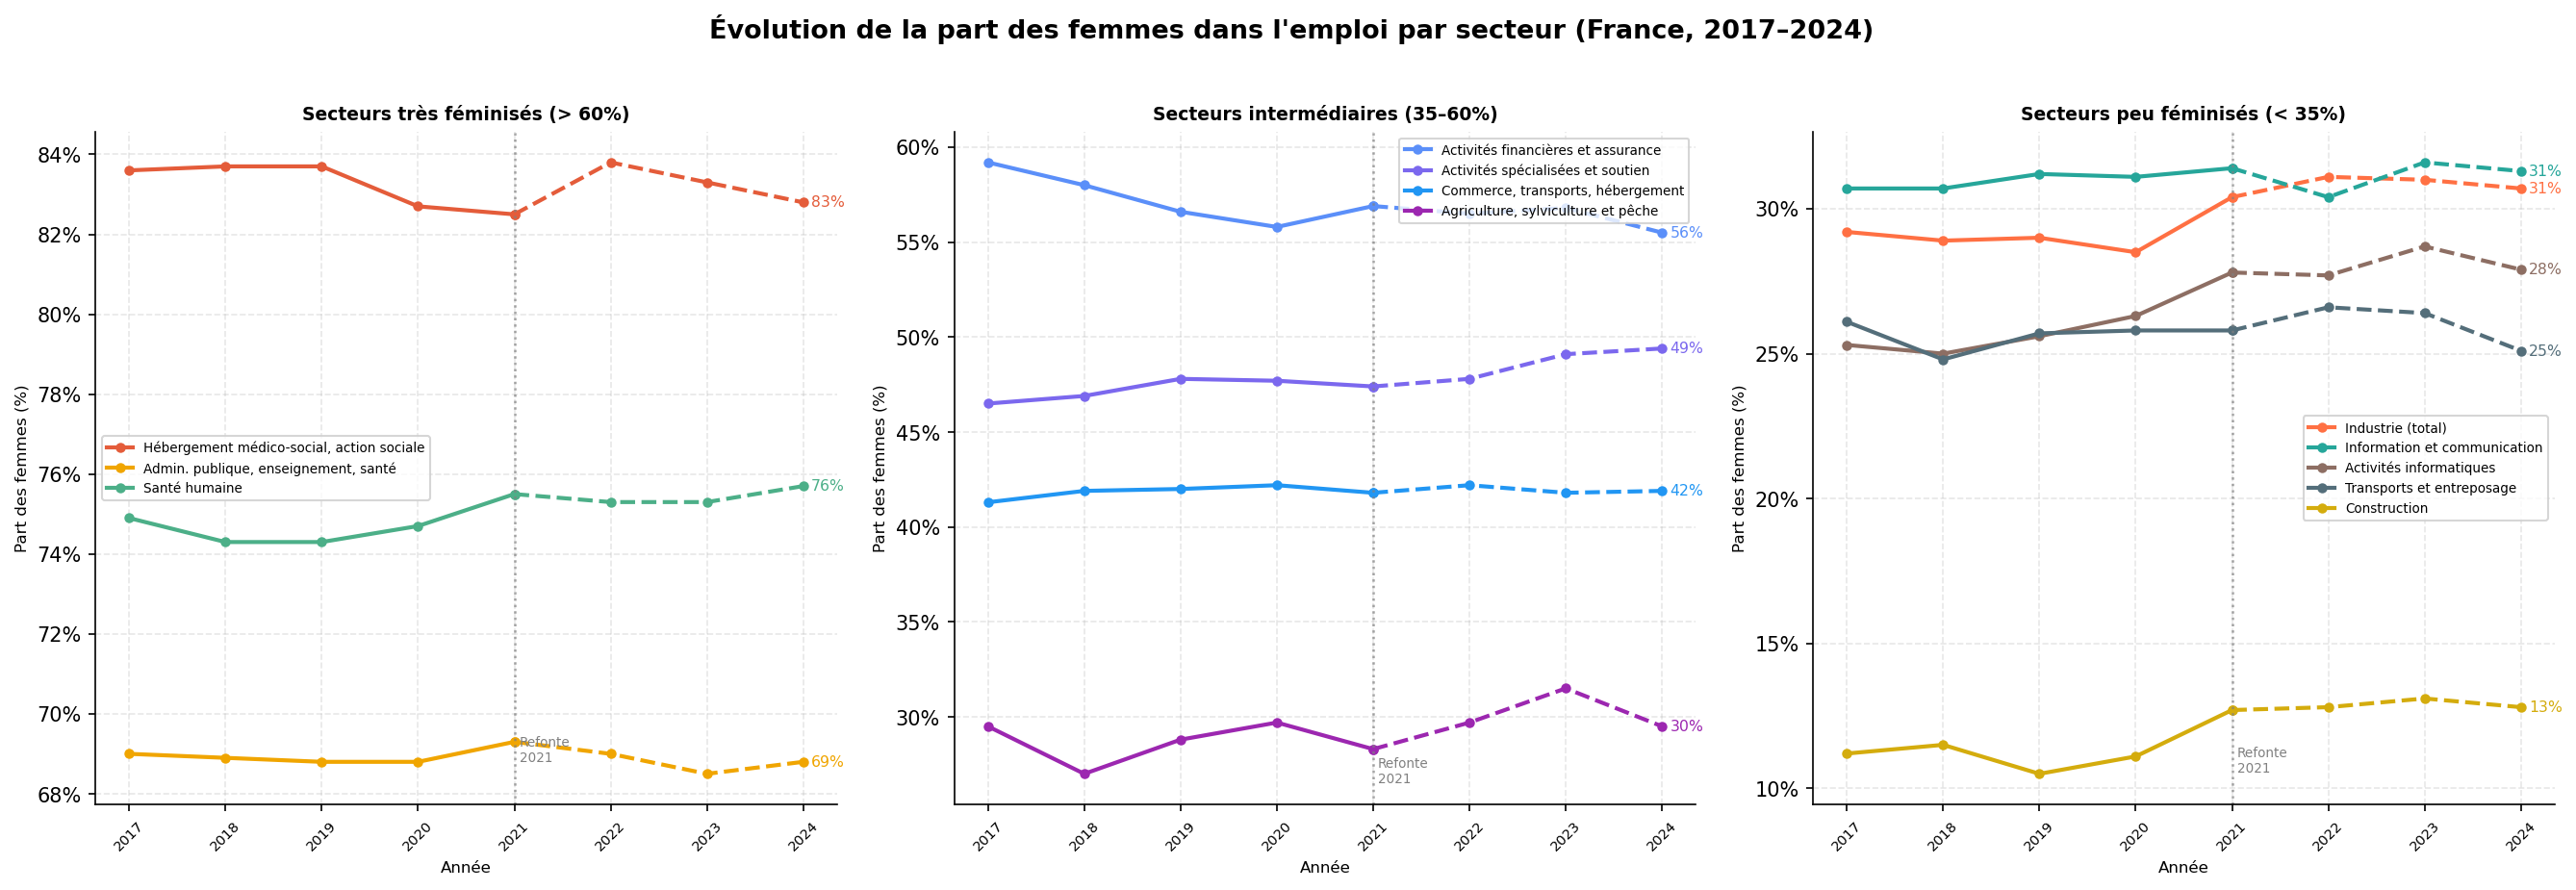

What the dashboard file says about the page in this screenshot:
{"tool":"tableau","page":{"name":"Dashboard","canvas":[1400,900],"ordinal":0},"visuals":[{"type":"blank","box":[0,0,350,5]},{"type":"blank","box":[350,0,350,5]},{"type":"blank","box":[700,0,350,5]},{"type":"blank","box":[1050,0,350,5]},{"type":"text","box":[840,3,420,126]},{"type":"blank","box":[0,4,1400,126]},{"type":"text","box":[65,4,570,126]},{"type":"blank","box":[700,17,1,100]},{"type":"blank","box":[0,130,1400,36]},{"type":"text","box":[0,130,1400,36]},{"type":"blank","box":[0,166,1400,80]},{"type":"text","box":[256,166,250,80]},{"type":"text","box":[544,166,140,81]},{"type":"text","box":[722,166,140,80]},{"type":"blank","box":[900,166,2,80]},{"type":"text","box":[38,167,180,80]},{"type":"blank","box":[38,176,3,60]},{"type":"blank","box":[256,176,3,60]},{"type":"blank","box":[544,176,3,60]},{"type":"blank","box":[722,176,3,60]},{"type":"text","box":[1089,176,120,20]},{"type":"filter","title":"01 - Évolution","param":"[federated.1gqlfck05qt47b11bux781xqgqww].[none:famille:nk]","box":[940,202,190,30]},{"type":"filter","title":"01 - Évolution","param":"[federated.1gqlfck05qt47b11bux781xqgqww].[none:secteur:nk]","box":[1170,202,190,30]},{"type":"blank","box":[0,246,900,22]},{"type":"blank","box":[0,246,6,22]},{"type":"text","box":[14,246,886,22]},{"type":"blank","box":[900,246,500,544]},{"type":"blank","box":[900,246,500,4]},{"type":"worksheet","title":"01 - Évolution","mark":"Line","rows":["part_femmes"],"cols":["annee"],"box":[0,268,900,250]},{"type":"text","box":[1043,269,200,30]},{"type":"blank","box":[955,314,380,1]},{"type":"text","box":[1050,364,200,25]},{"type":"text","box":[947,389,400,80]},{"type":"text","box":[1050,489,200,25]},{"type":"text","box":[955,514,400,80]},{"type":"blank","box":[0,518,900,22]},{"type":"blank","box":[0,518,6,22]},{"type":"text","box":[14,518,886,22]},{"type":"legend","title":"02 - Variation","param":"[federated.1gqlfck05qt47b11bux781xqgqww].[none:Calculation_2293565508513793:nk]","box":[530,518,370,22]},{"type":"worksheet","title":"02 - Variation","mark":"Bar","rows":["secteur","Calculation_2293565508513793"],"cols":["Calculation_2293565508431872"],"box":[0,540,900,250]},{"type":"text","box":[1000,614,300,25]},{"type":"text","box":[967,639,400,140]},{"type":"blank","box":[0,790,1400,30]},{"type":"text","box":[30,790,1370,30]},{"type":"blank","box":[0,820,1400,84]},{"type":"text","box":[20,820,1380,84]}]}

Visuals, with their boxes on the page's 1400x900 design canvas (x1, y1, x2, y2). These are canvas units, not pixel positions in the 2576x890 screenshot, which may show the page scaled, cropped or inside an application window:
blank: <region>0, 0, 350, 5</region>
blank: <region>350, 0, 700, 5</region>
blank: <region>700, 0, 1050, 5</region>
blank: <region>1050, 0, 1400, 5</region>
text: <region>840, 3, 1260, 129</region>
blank: <region>0, 4, 1400, 130</region>
text: <region>65, 4, 635, 130</region>
blank: <region>700, 17, 701, 117</region>
blank: <region>0, 130, 1400, 166</region>
text: <region>0, 130, 1400, 166</region>
blank: <region>0, 166, 1400, 246</region>
text: <region>256, 166, 506, 246</region>
text: <region>544, 166, 684, 247</region>
text: <region>722, 166, 862, 246</region>
blank: <region>900, 166, 902, 246</region>
text: <region>38, 167, 218, 247</region>
blank: <region>38, 176, 41, 236</region>
blank: <region>256, 176, 259, 236</region>
blank: <region>544, 176, 547, 236</region>
blank: <region>722, 176, 725, 236</region>
text: <region>1089, 176, 1209, 196</region>
"01 - Évolution" filter: <region>940, 202, 1130, 232</region>
"01 - Évolution" filter: <region>1170, 202, 1360, 232</region>
blank: <region>0, 246, 900, 268</region>
blank: <region>0, 246, 6, 268</region>
text: <region>14, 246, 900, 268</region>
blank: <region>900, 246, 1400, 790</region>
blank: <region>900, 246, 1400, 250</region>
"01 - Évolution" worksheet (Line marks): <region>0, 268, 900, 518</region>
text: <region>1043, 269, 1243, 299</region>
blank: <region>955, 314, 1335, 315</region>
text: <region>1050, 364, 1250, 389</region>
text: <region>947, 389, 1347, 469</region>
text: <region>1050, 489, 1250, 514</region>
text: <region>955, 514, 1355, 594</region>
blank: <region>0, 518, 900, 540</region>
blank: <region>0, 518, 6, 540</region>
text: <region>14, 518, 900, 540</region>
"02 - Variation" legend: <region>530, 518, 900, 540</region>
"02 - Variation" worksheet (Bar marks): <region>0, 540, 900, 790</region>
text: <region>1000, 614, 1300, 639</region>
text: <region>967, 639, 1367, 779</region>
blank: <region>0, 790, 1400, 820</region>
text: <region>30, 790, 1400, 820</region>
blank: <region>0, 820, 1400, 904</region>
text: <region>20, 820, 1400, 904</region>
